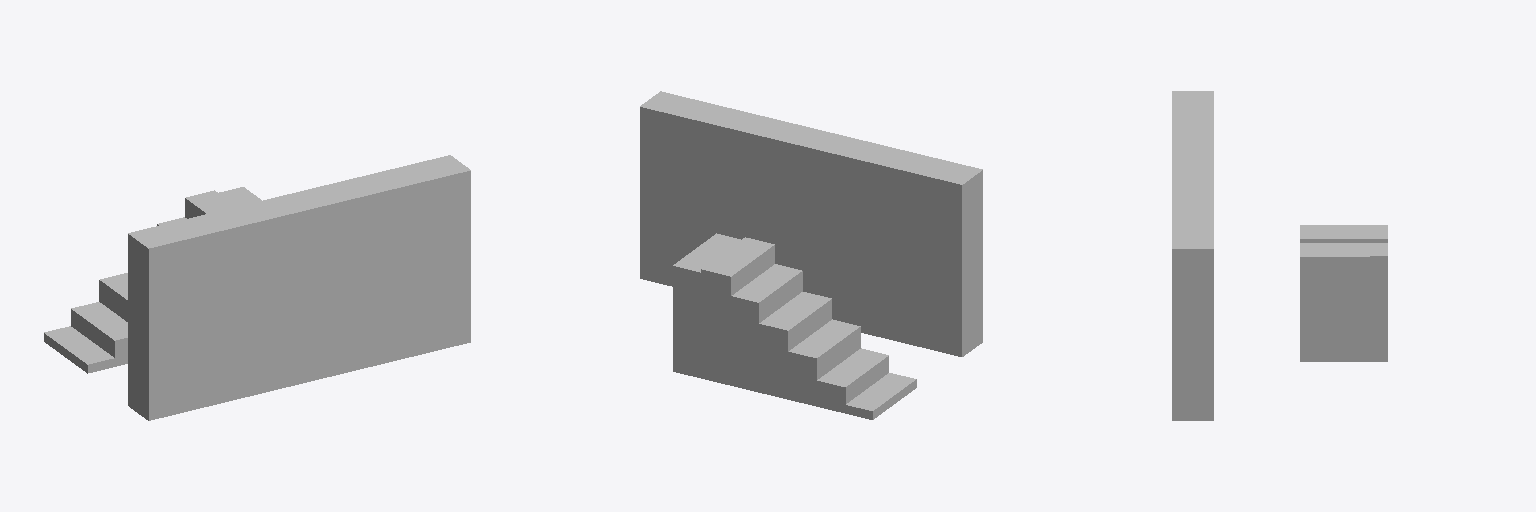
File: bright_stair1b_obst.obj
The picture shows the model from 3 angles: view 1: azimuth 30°, elevation 25°; view 2: azimuth 150°, elevation 25°; view 3: azimuth 270°, elevation 25°; orthographic projection.
Parts seen in each view (by area): view 1: polySurface116; view 2: polySurface116; view 3: polySurface116.
Part boxes in pixels (x1,y1,x2,y2): polySurface116: (44, 155, 470, 420); polySurface116: (640, 91, 982, 419); polySurface116: (1172, 91, 1387, 420).
Size of the model in its own units: 41.8 by 21.33 by 24.22.